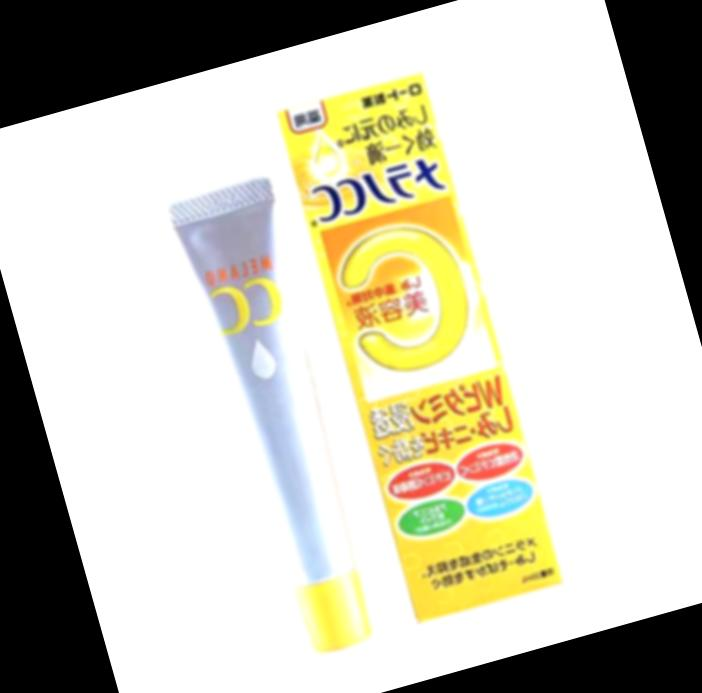cosmetic: (166, 173, 402, 661)
